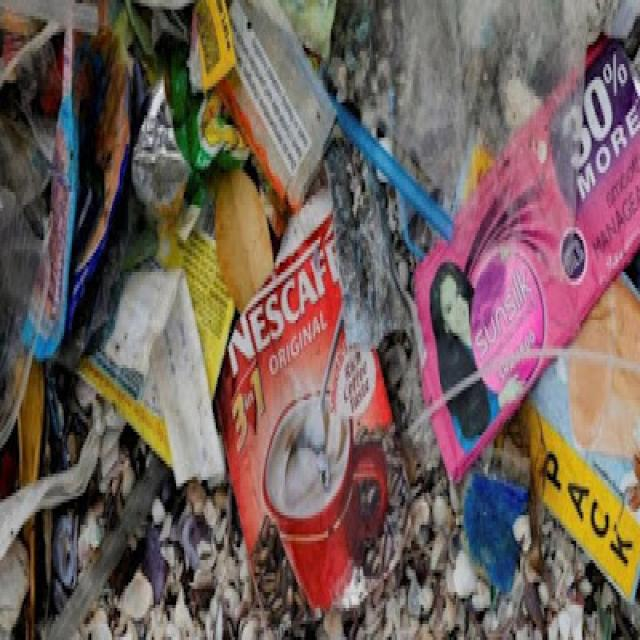Anorganik: (419, 61, 640, 496), (210, 203, 398, 616)
